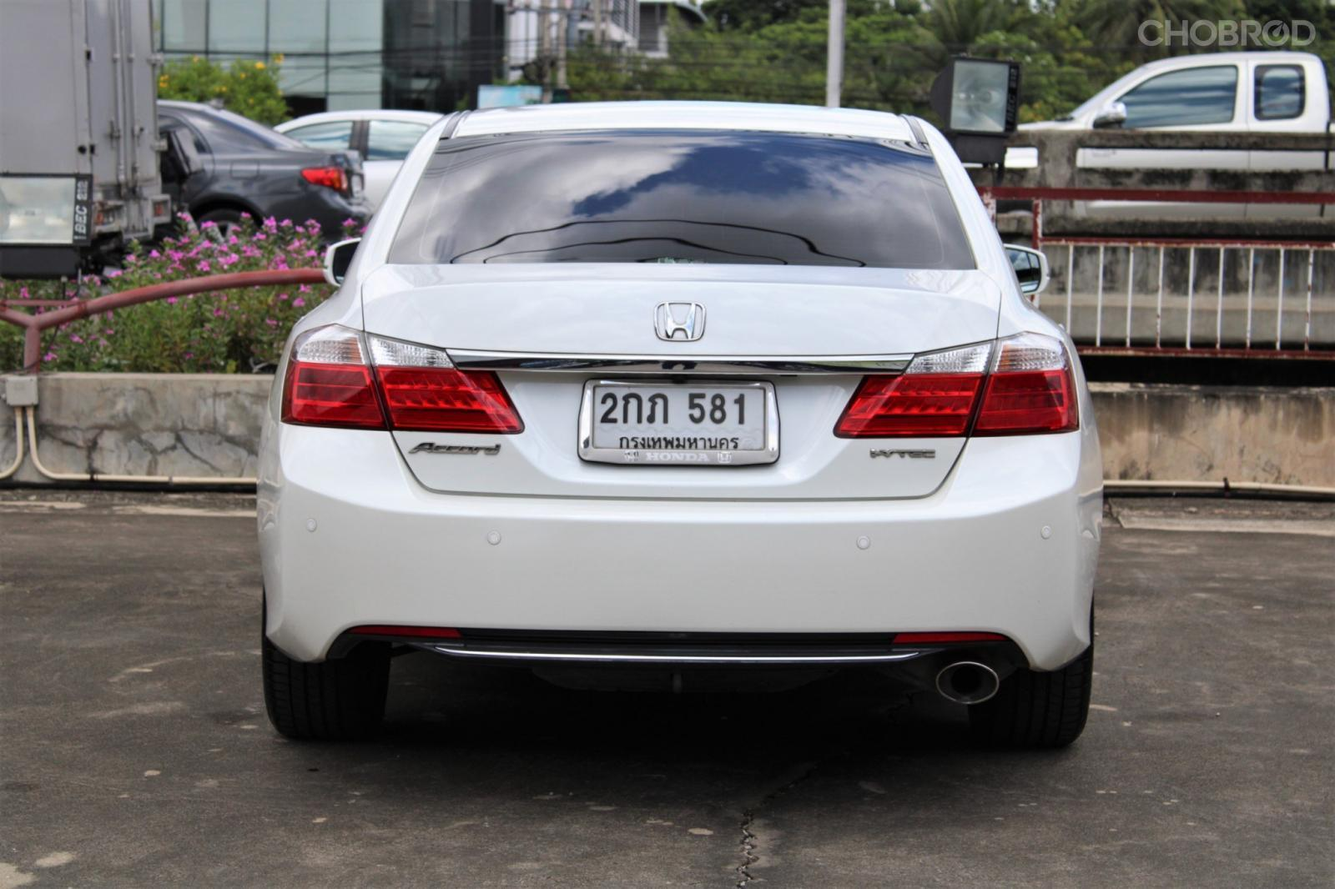license-plate: (572, 367, 785, 473)
